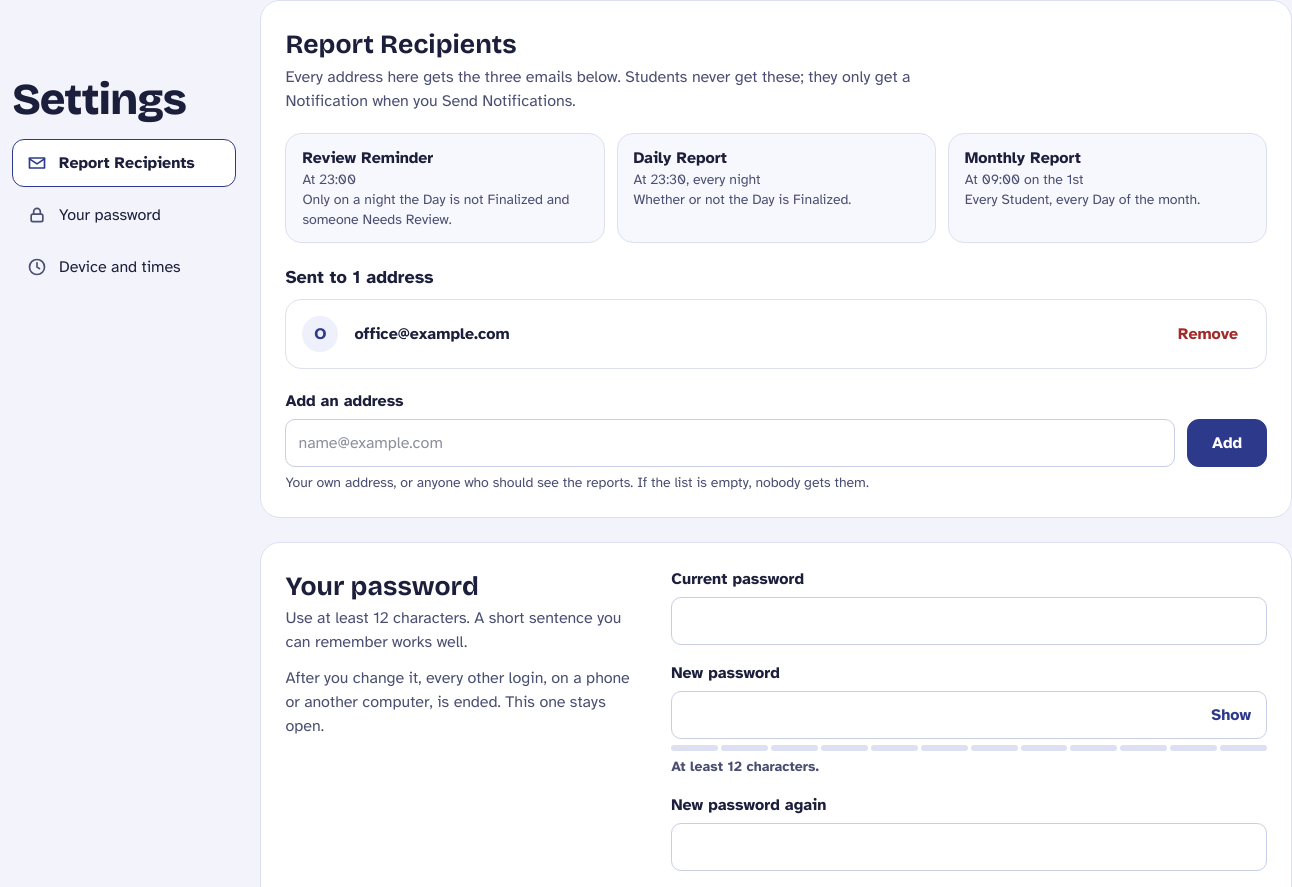
it: Report Recipients › asks on the same row before removing, and keeps the address on Keep
The width and height of the screenshot is (1292, 887).
Expected: the text "office@example.com" is shown, [354,324,510,344]
Click the button with aria-label "Remove office@example.com": (1208, 334) [1166,312,1250,356]
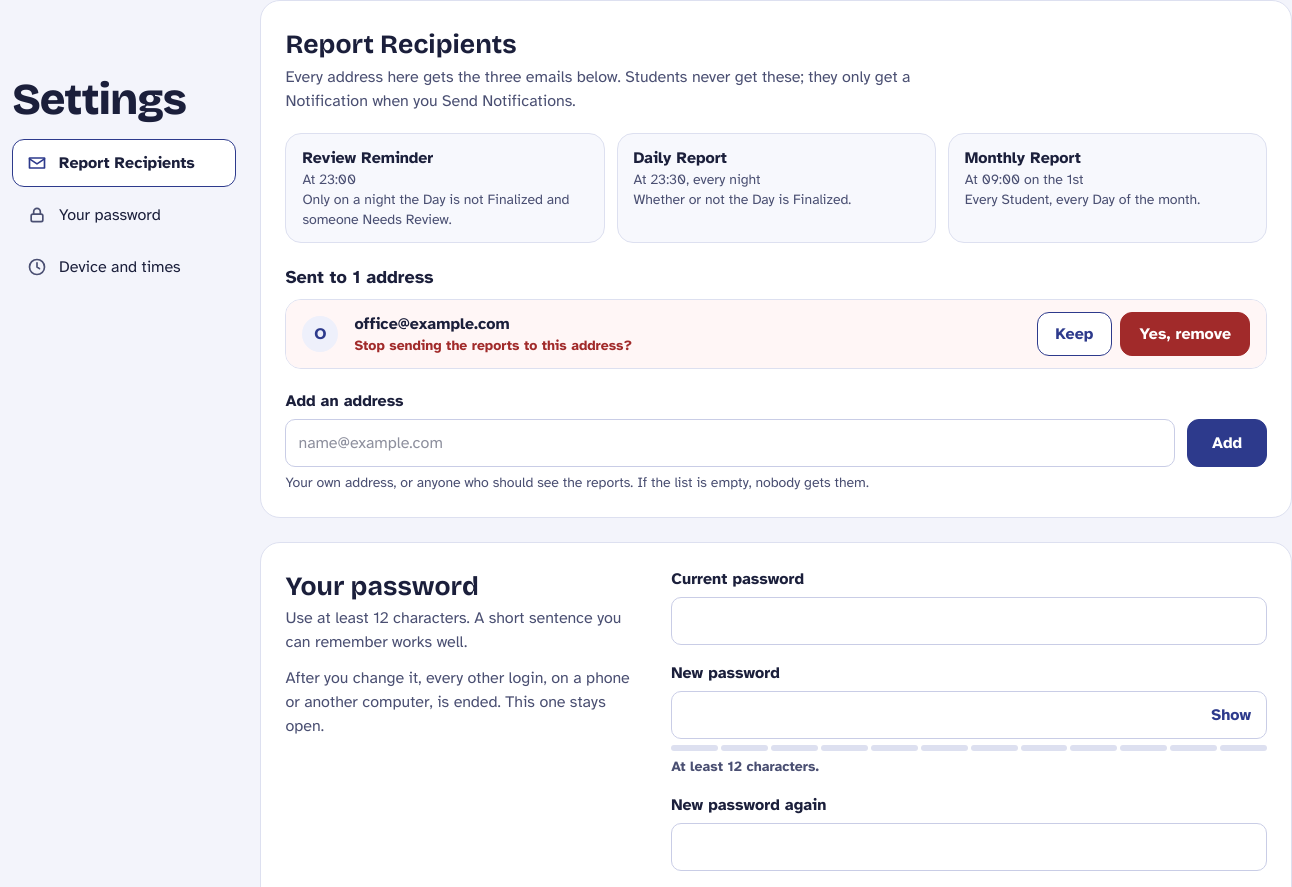
Result: the text "Stop sending the reports to this address?" is shown at [354,337,632,354]
Click the button "Keep": (1074, 334) [1037,312,1112,356]
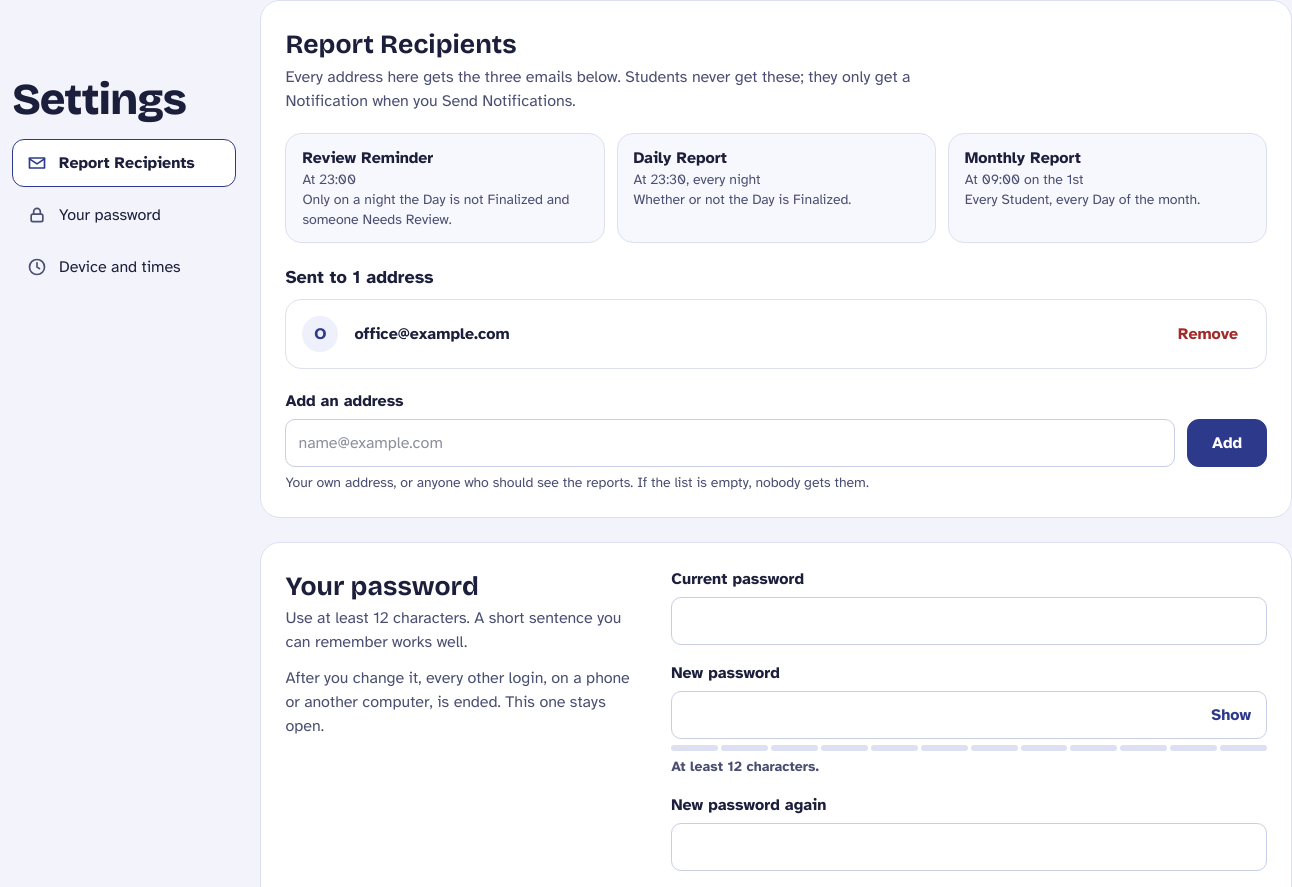
Expected: the button with aria-label "Remove office@example.com" is shown, [1166,312,1250,356]
Result: the text "Stop sending the reports to this address?" is gone
